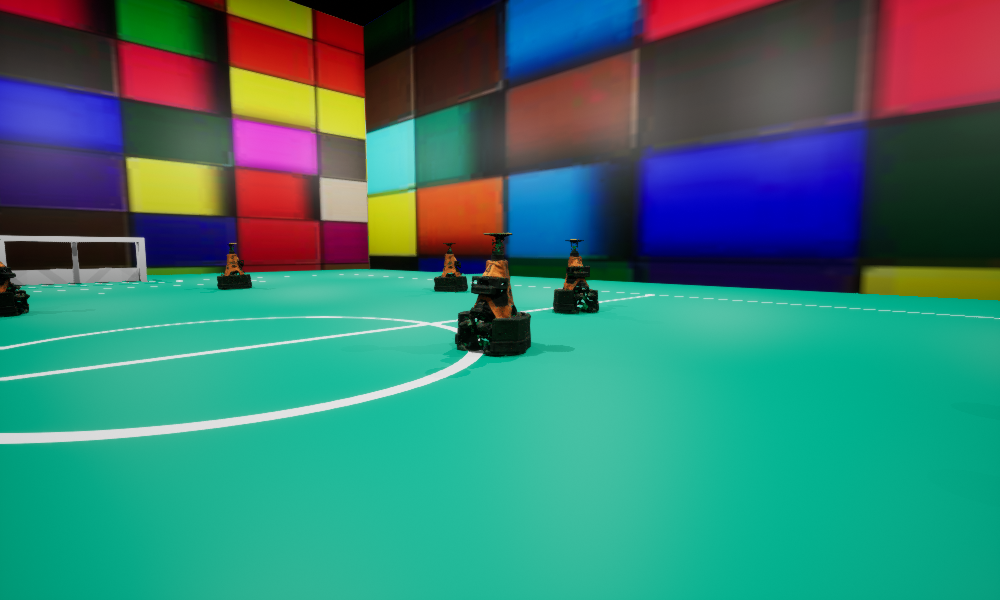0 orange robot TechUnited: (455, 233, 530, 354), (553, 239, 598, 313), (0, 239, 29, 316), (434, 243, 467, 291), (217, 243, 251, 289)
